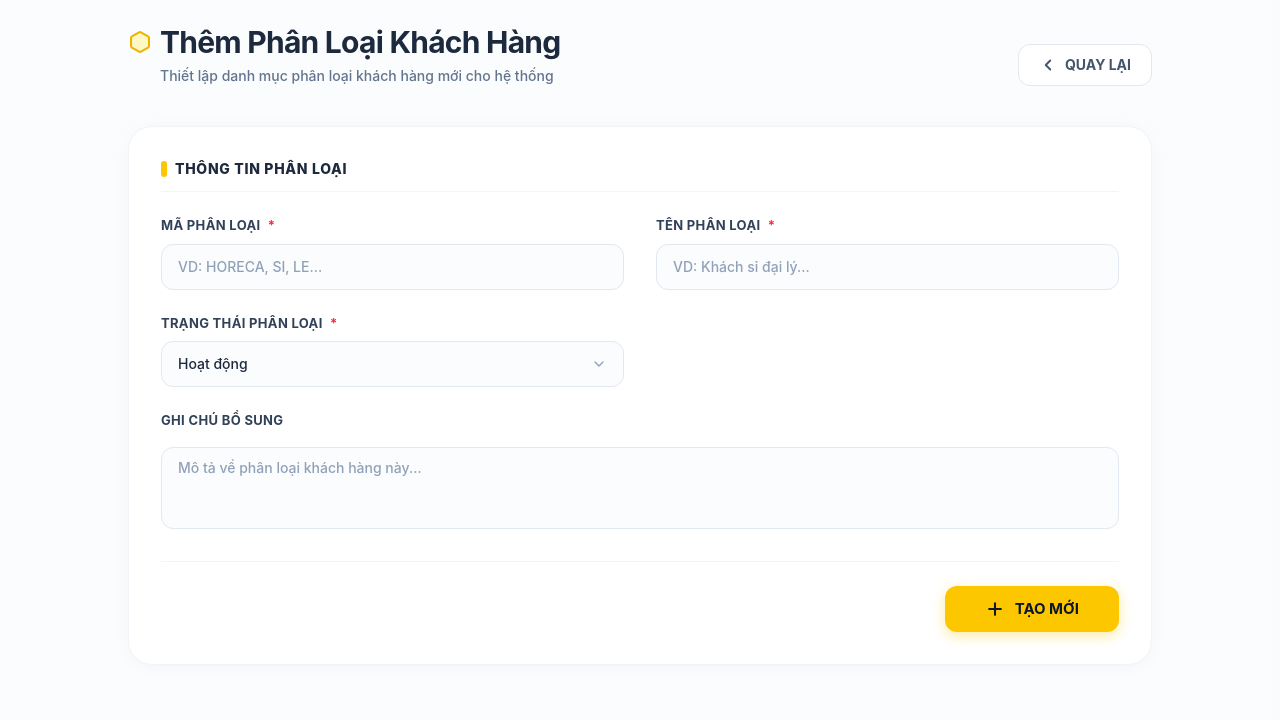
Module 06 - CustomerTypeForm Component › TC03 - Báo lỗi trùng lặp mã Code và Tên ngay trên giao diện
Expected: the heading "Thêm Phân Loại Khách Hàng" is shown, [160, 24, 560, 60]
In the field with placeholder "VD: HORECA, SI, LE...": x=392, y=266 [161, 244, 624, 290], type "si"
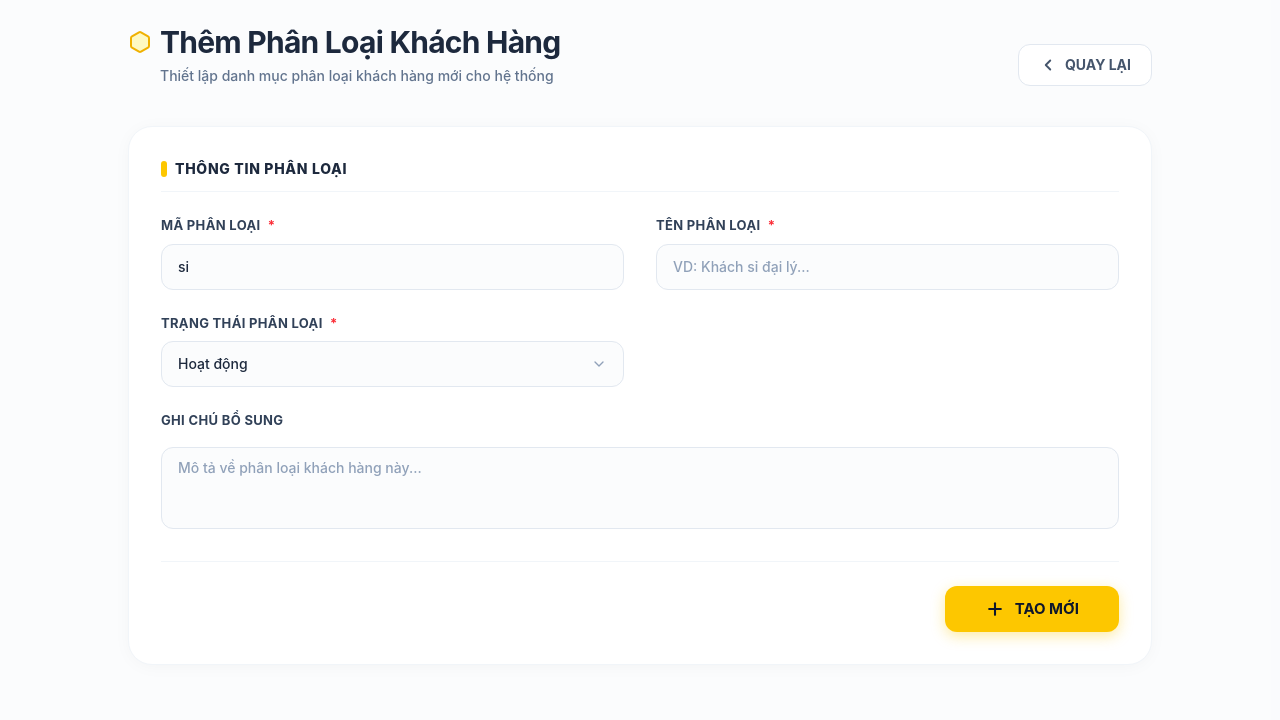
In the field with placeholder "VD: Khách sỉ đại lý...": x=888, y=266 [656, 244, 1119, 290], type "Khách sỉ"
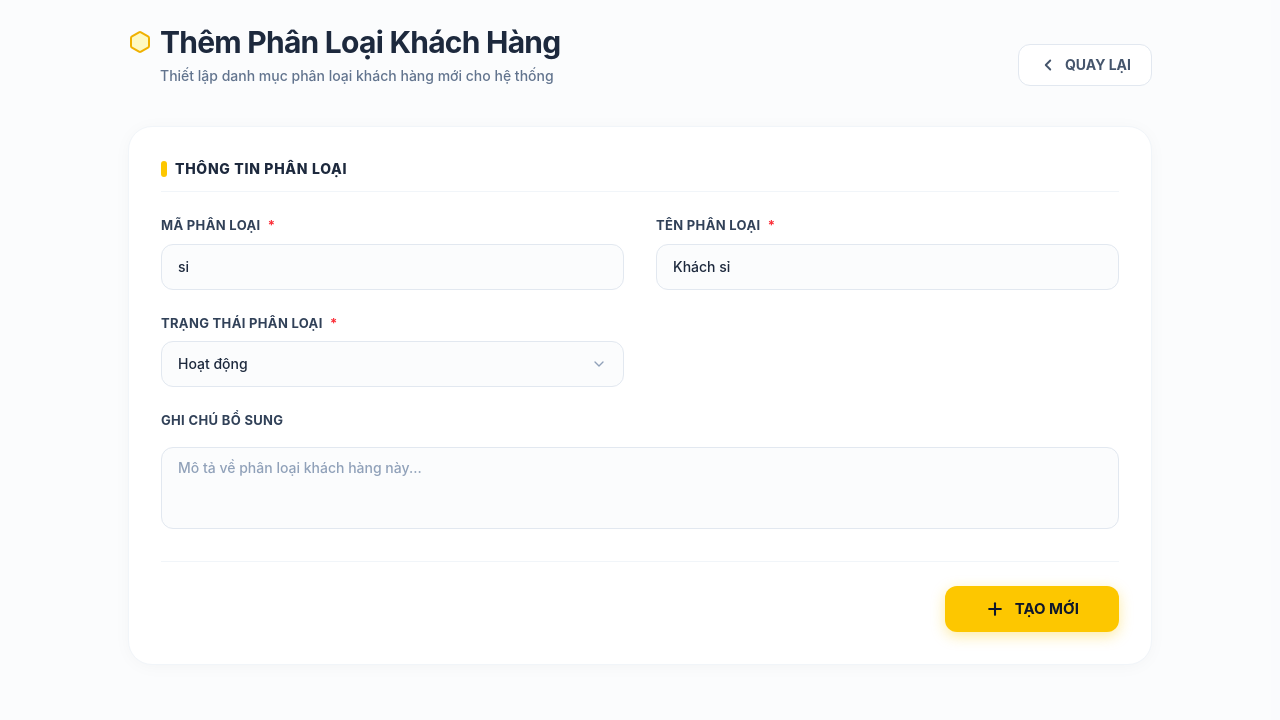
Click the button "TẠO MỚI": x=1032, y=609 [945, 586, 1119, 632]
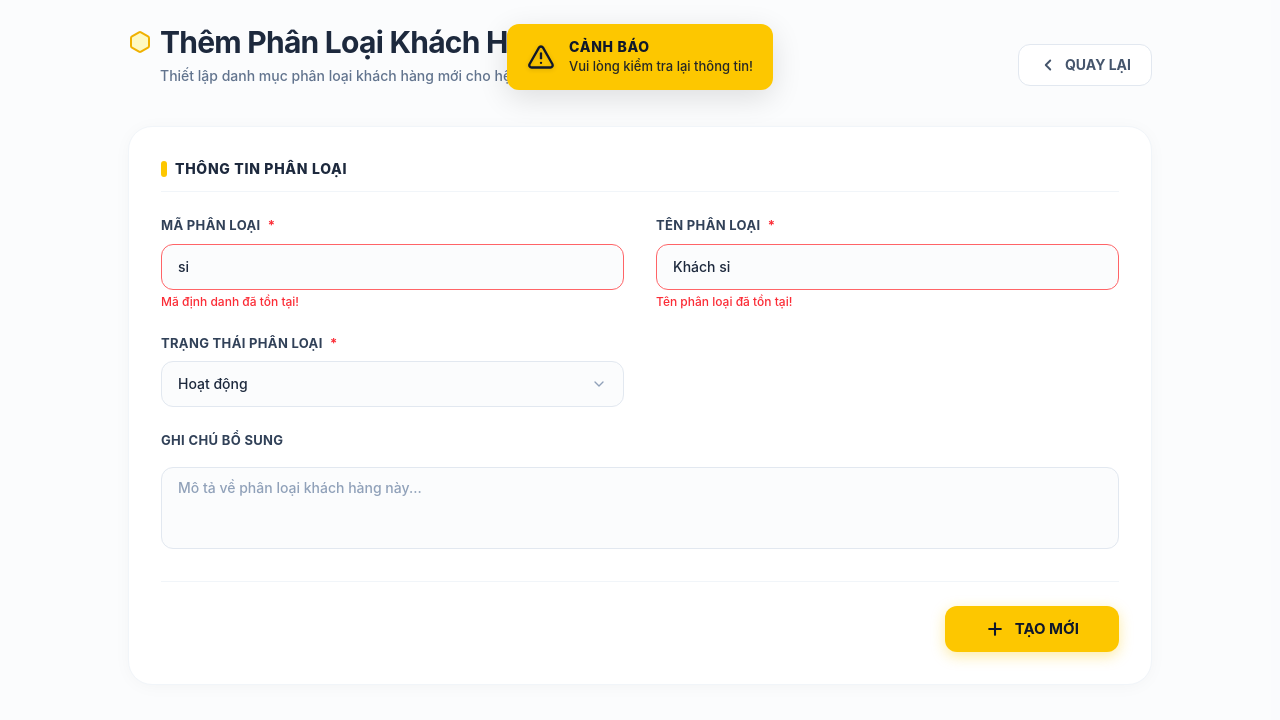
Expected: the text "Mã định danh đã tồn tại!" is shown, [161, 294, 299, 308]
Expected: the text "Tên phân loại đã tồn tại!" is shown, [656, 294, 792, 308]
